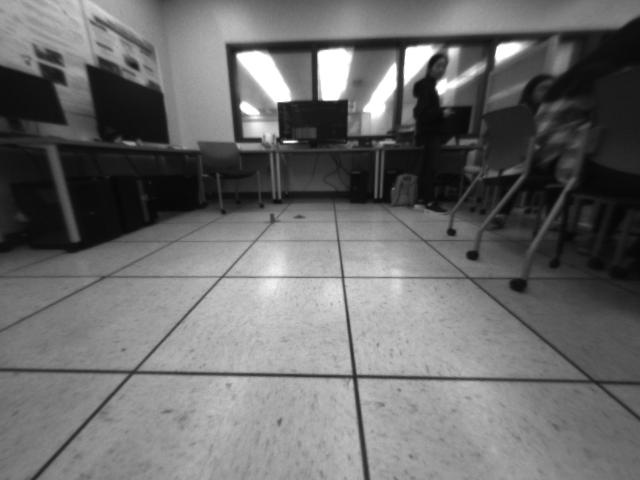X: (262, 211, 282, 226)
